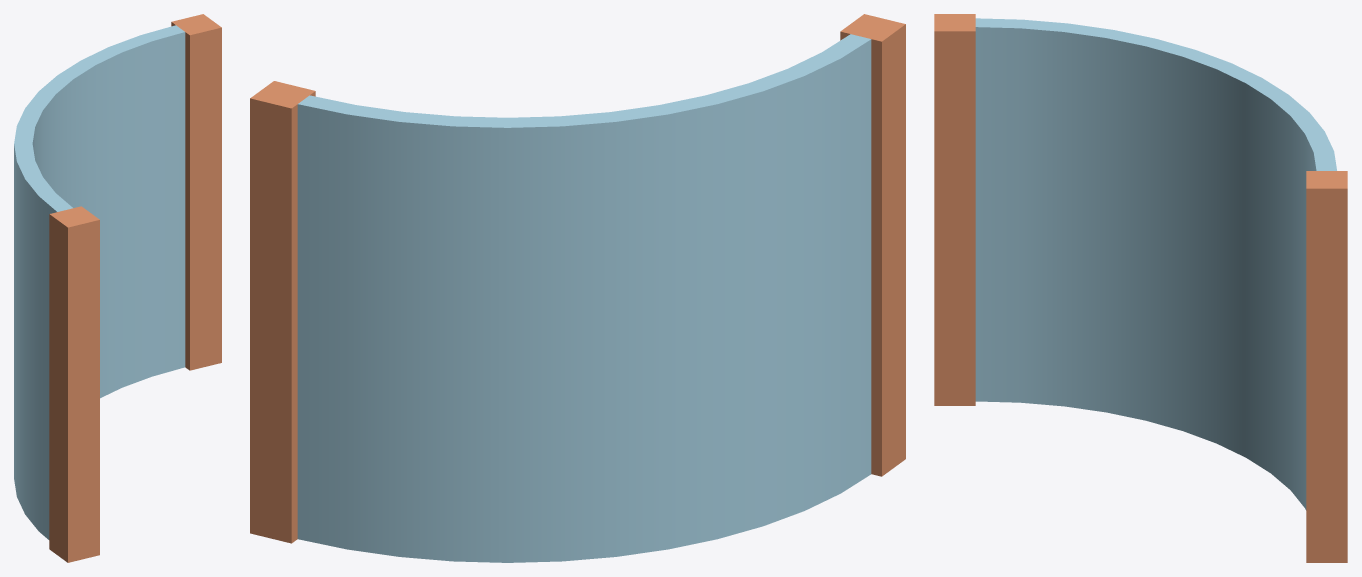
File: wallCurved.glb
3 views of the same model, side by side, from view 1: azimuth 30°, elevation 25°; view 2: azimuth 150°, elevation 25°; view 3: azimuth 270°, elevation 25° (orthographic). The views are drawn at different scales.
Visible parts, largest first — view 1: wallCurved; view 2: wallCurved; view 3: wallCurved.
Part boxes in pixels (x1,y1,x2,y2): wallCurved: (14, 14, 221, 562); wallCurved: (250, 14, 905, 562); wallCurved: (934, 14, 1347, 562).
Size of the model in its own units: 1 by 1 by 1.
